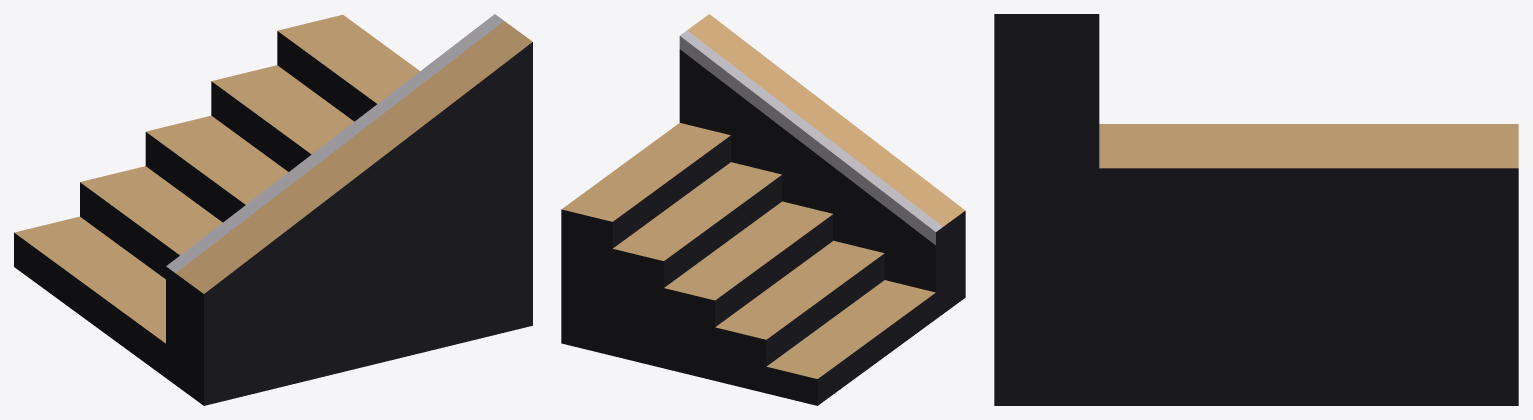
The model's file is Ledge_Stairs__SML_R.fbx.
3 renders of one model, left to right at view 1: azimuth 30°, elevation 25°; view 2: azimuth 150°, elevation 25°; view 3: azimuth 270°, elevation 25°, orthographic. The views are drawn at different scales.
Parts seen in each view (by area): view 1: Ledge_Stairs__SML_R; view 2: Ledge_Stairs__SML_R; view 3: Ledge_Stairs__SML_R.
Boxes of the visible parts, x1,y1,x2,y2 form: Ledge_Stairs__SML_R: [14, 14, 532, 405]; Ledge_Stairs__SML_R: [561, 14, 965, 405]; Ledge_Stairs__SML_R: [994, 14, 1518, 405].
Size of the model in its own units: 10 by 8.25 by 10.
